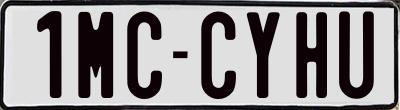1: (35, 11, 66, 99)
C: (127, 10, 166, 103), (198, 8, 234, 96)
H: (295, 12, 330, 99)
M: (77, 12, 115, 103)
U: (339, 9, 374, 97)
Y: (246, 10, 279, 99)
